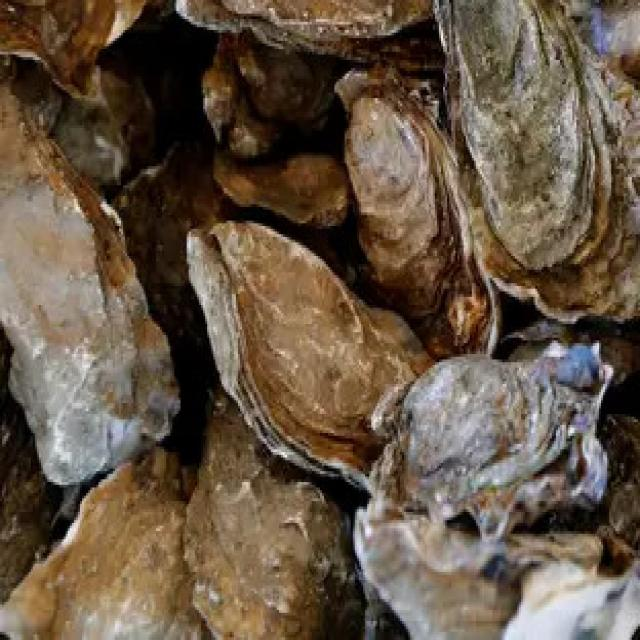Oyster- Indeterminate: (91, 386, 439, 640), (0, 63, 194, 491), (361, 338, 627, 546), (326, 73, 505, 372), (98, 129, 275, 365), (0, 449, 212, 640), (343, 504, 603, 640), (186, 24, 353, 175), (204, 123, 363, 231), (179, 0, 441, 48), (310, 13, 445, 87), (216, 1, 393, 34)
Oyster-Closed: (116, 183, 461, 509), (0, 332, 54, 601)
Oyster-Open: (43, 56, 185, 198), (504, 559, 640, 640)
